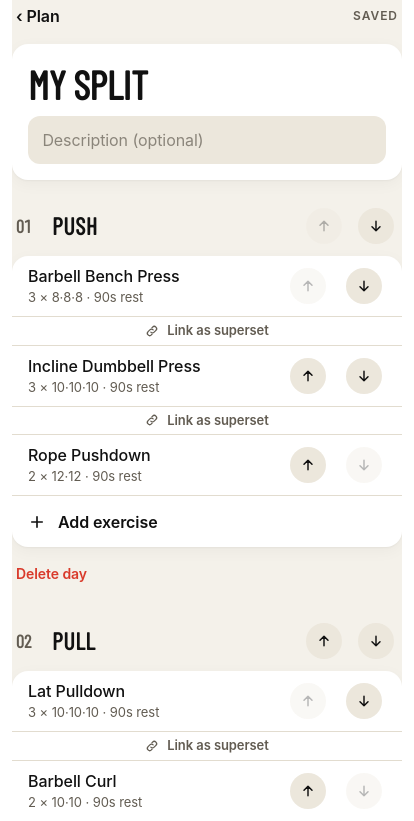
plan editor › links two exercises into a superset, then unlinks them
Expected: the text "Superset · tap to unlink" is not shown
Click the 1st button "Link as superset": click(207, 330) [12,316,402,344]
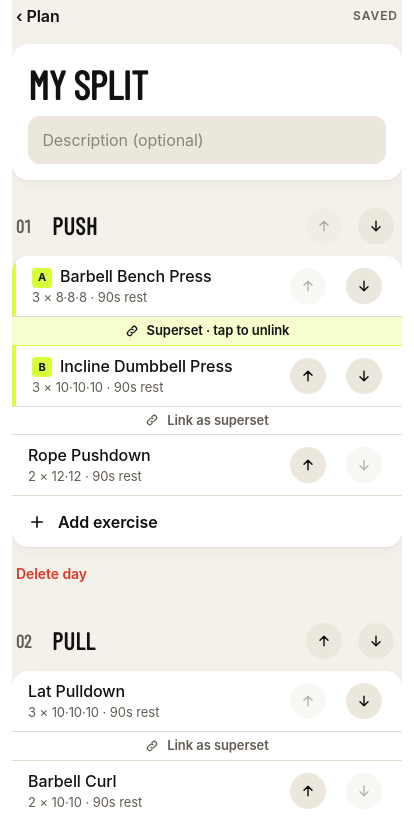
Expected: the text "Superset · tap to unlink" is shown
Click the button "Unlink superset": click(207, 330) [12,316,402,344]
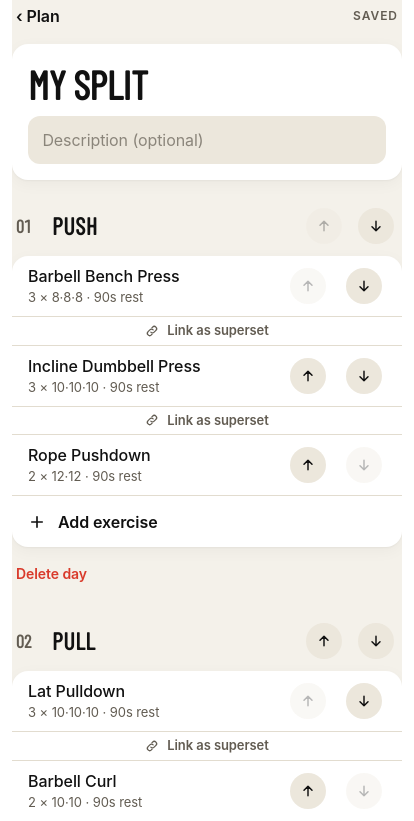
Expected: the text "Superset · tap to unlink" is gone
